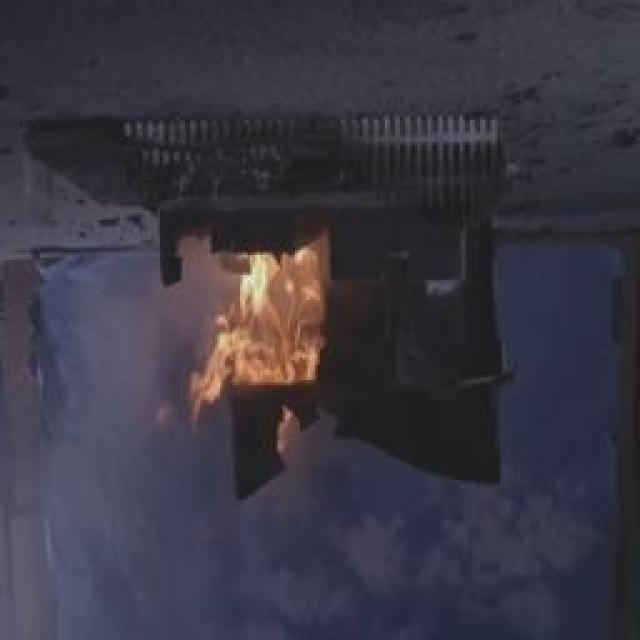fire: (182, 226, 352, 449)
